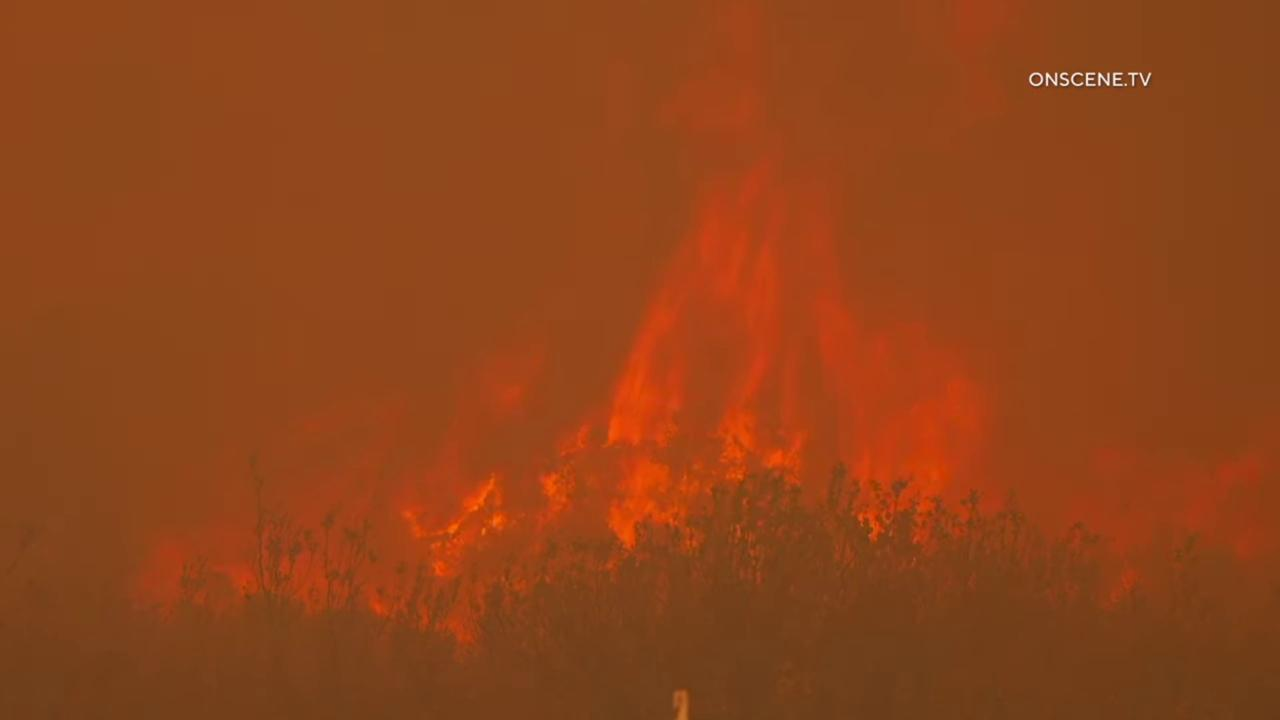fire: (123, 0, 1010, 653), (1044, 443, 1280, 618)
smoke: (0, 0, 1280, 720)
